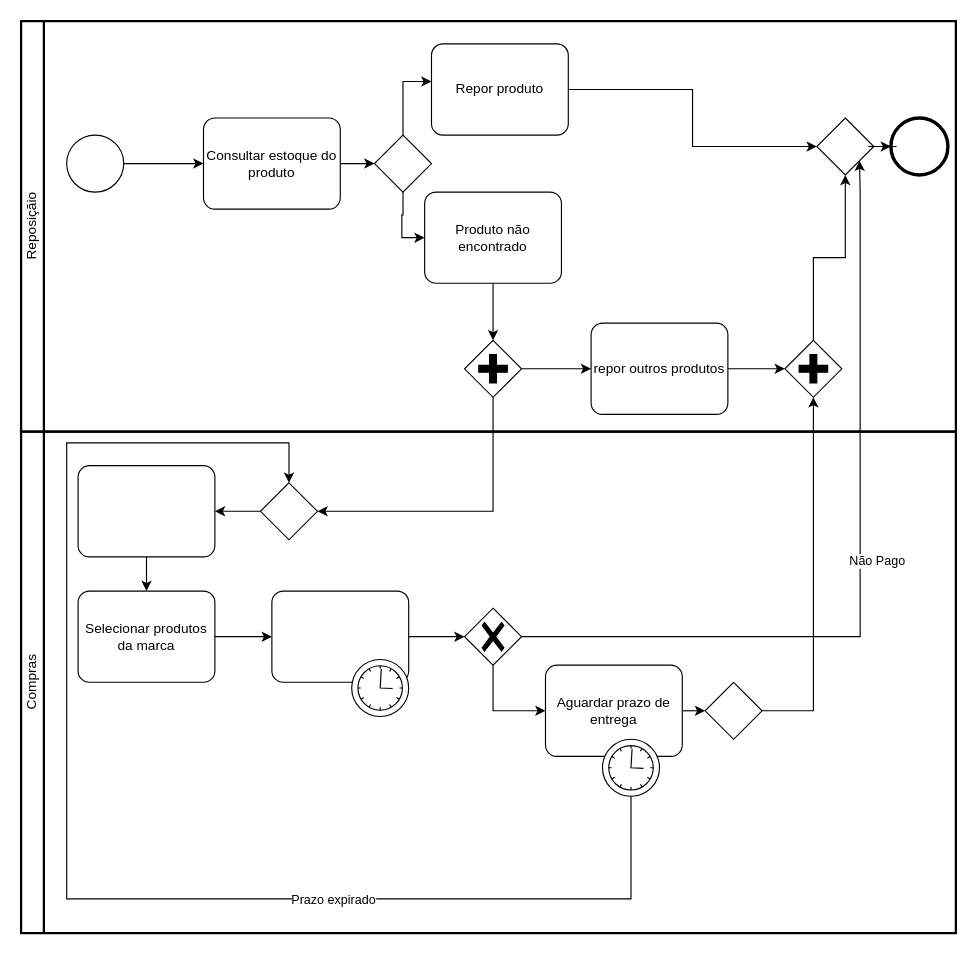
Some shapes in this 976 by 953 pixel diagram are drawn without their labels. The centre of each missing label's shape, as x and y in pixels:
"Comprar produto / falar com promotor" goes at (x=146, y=511).
"Gôndula vazia" goes at (x=95, y=163).
"Pagar Boleto" goes at (x=340, y=636).
"Vencimento boleto" goes at (x=380, y=687).
